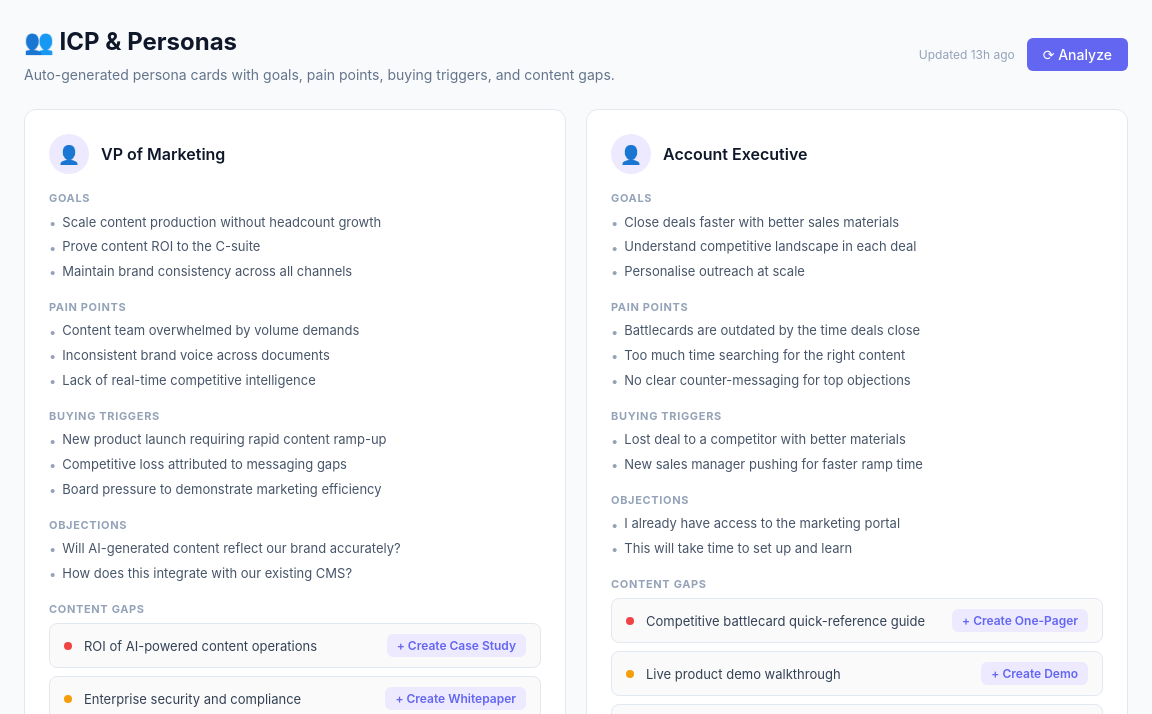
Scenario: Analyze button › shows success message after analysis completes
Click the button with test id "analyze-button" at (1077, 54), box x1=1027 y1=38 x2=1128 y2=71
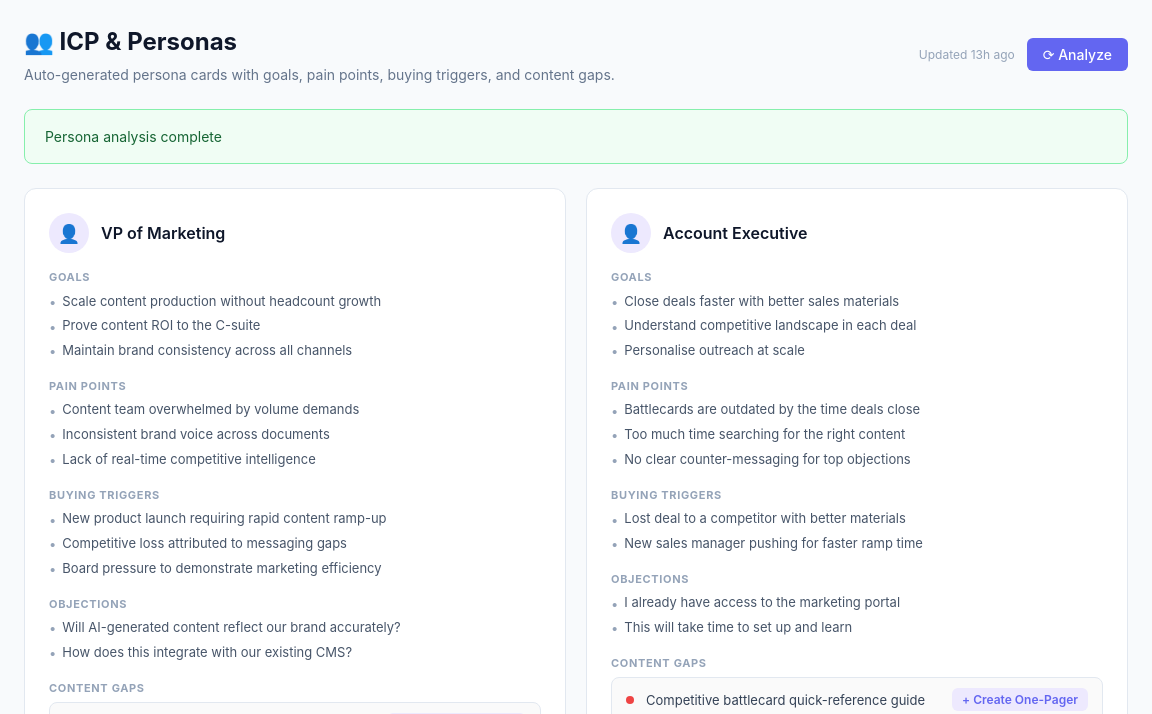
Check: the message with test id "analyze-message" reads "Persona analysis complete", box x1=45 y1=128 x2=222 y2=145
